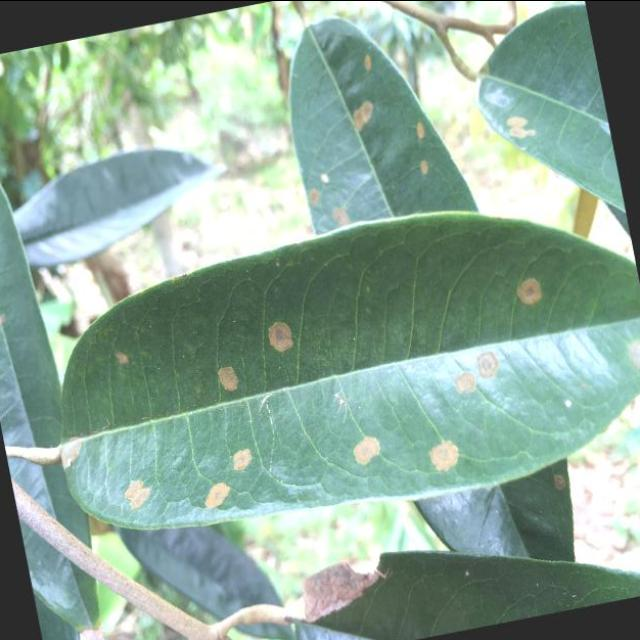Algal Leaf Spot: (13, 166, 640, 582)
